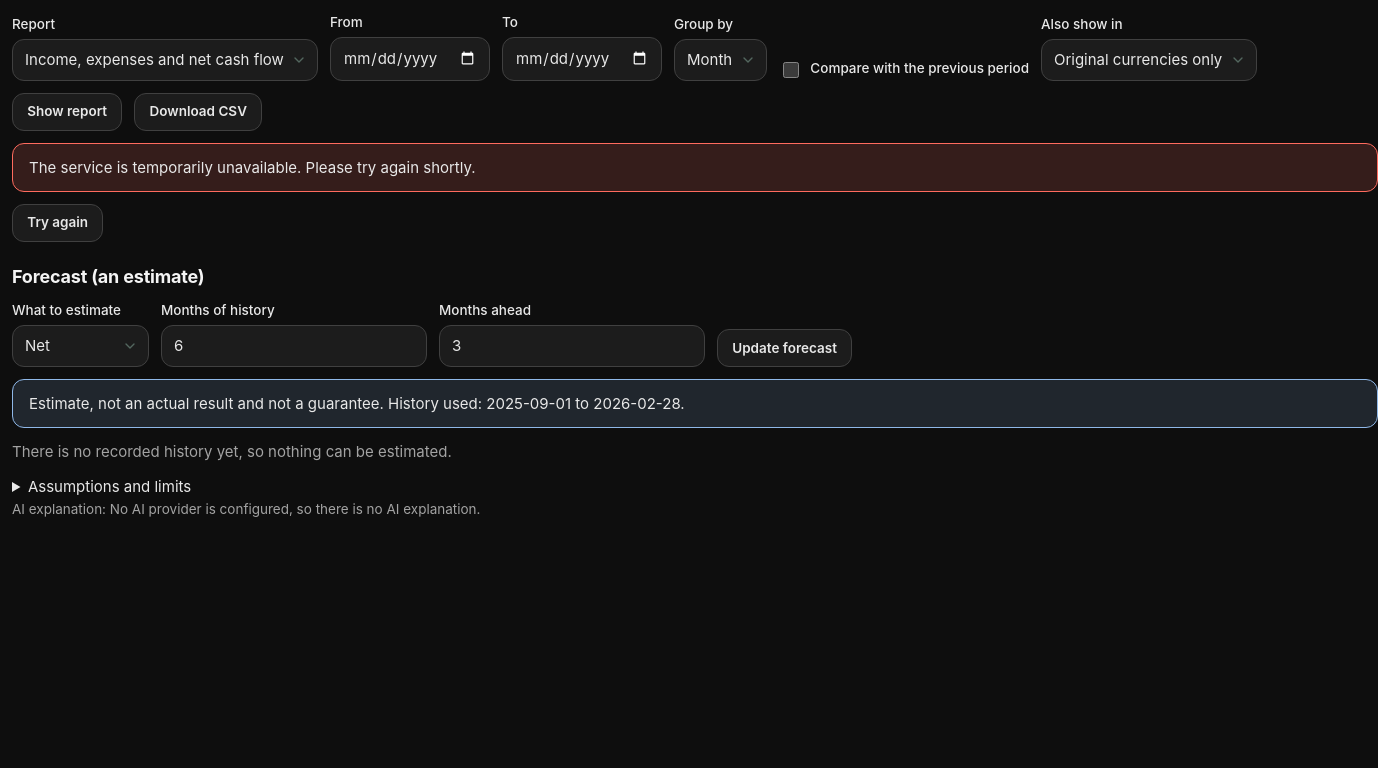
reports and forecast › shows an empty report, validates dates, and recovers from an error
Expected: the message "The service is temporarily unavailable. Please try again shortly." is shown, [12,143,1377,192]
Click the button "Try again".
click(58, 223)  # box [12,204,103,242]
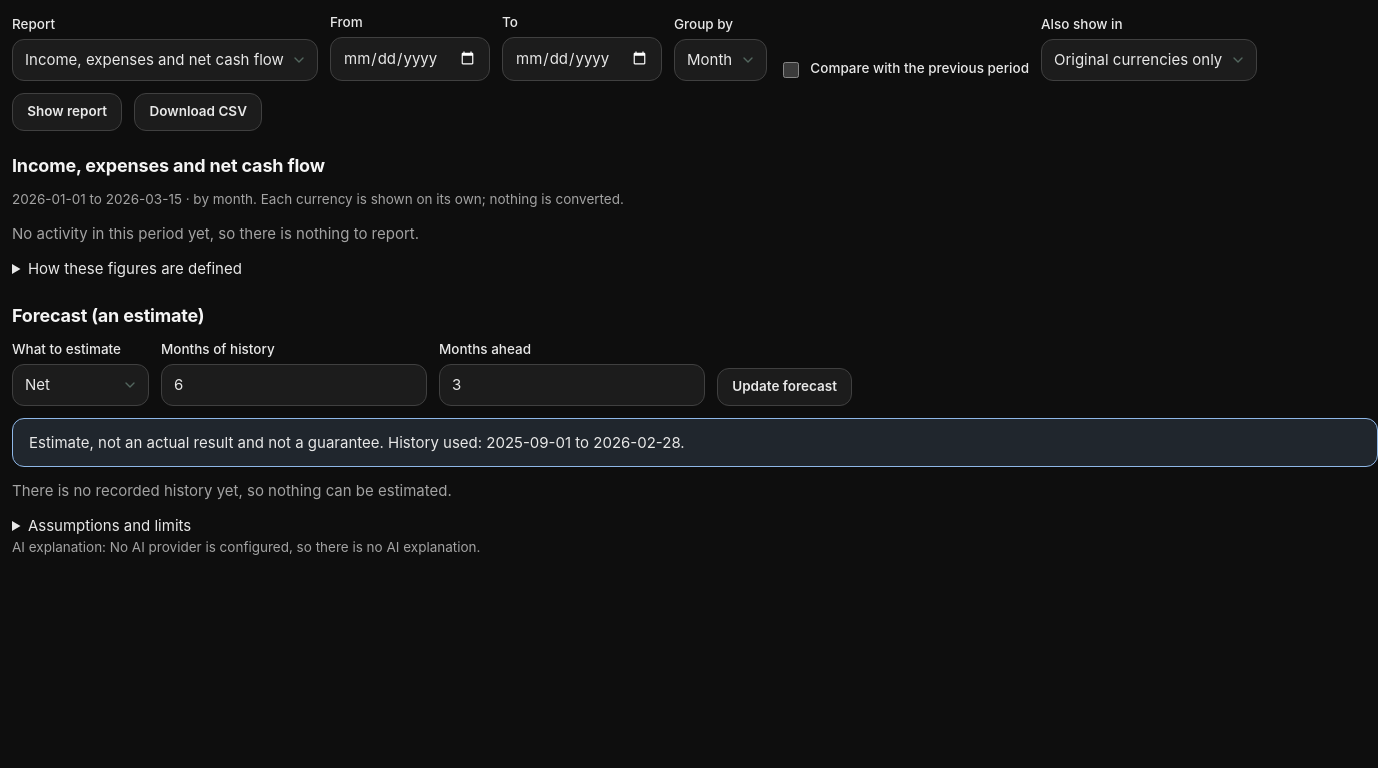
Now the text "No activity in this period yet" is shown, box [12,224,419,243]
Type "2026-03-10" into the date field labelled "From".
click(410, 59); type("2026-03-10")  # box [330,37,490,81]
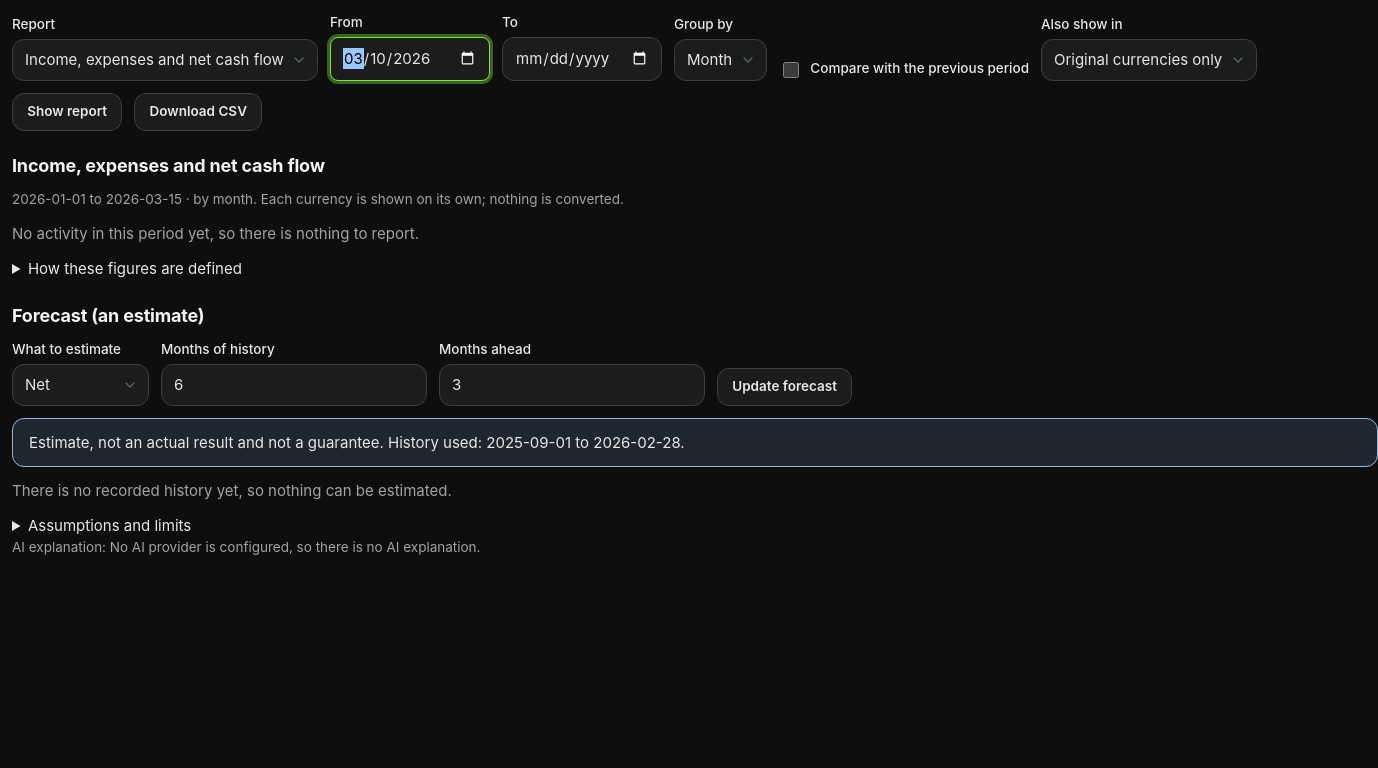
Type "2026-03-01" into the date field labelled "To".
click(582, 59); type("2026-03-01")  # box [502,37,662,81]
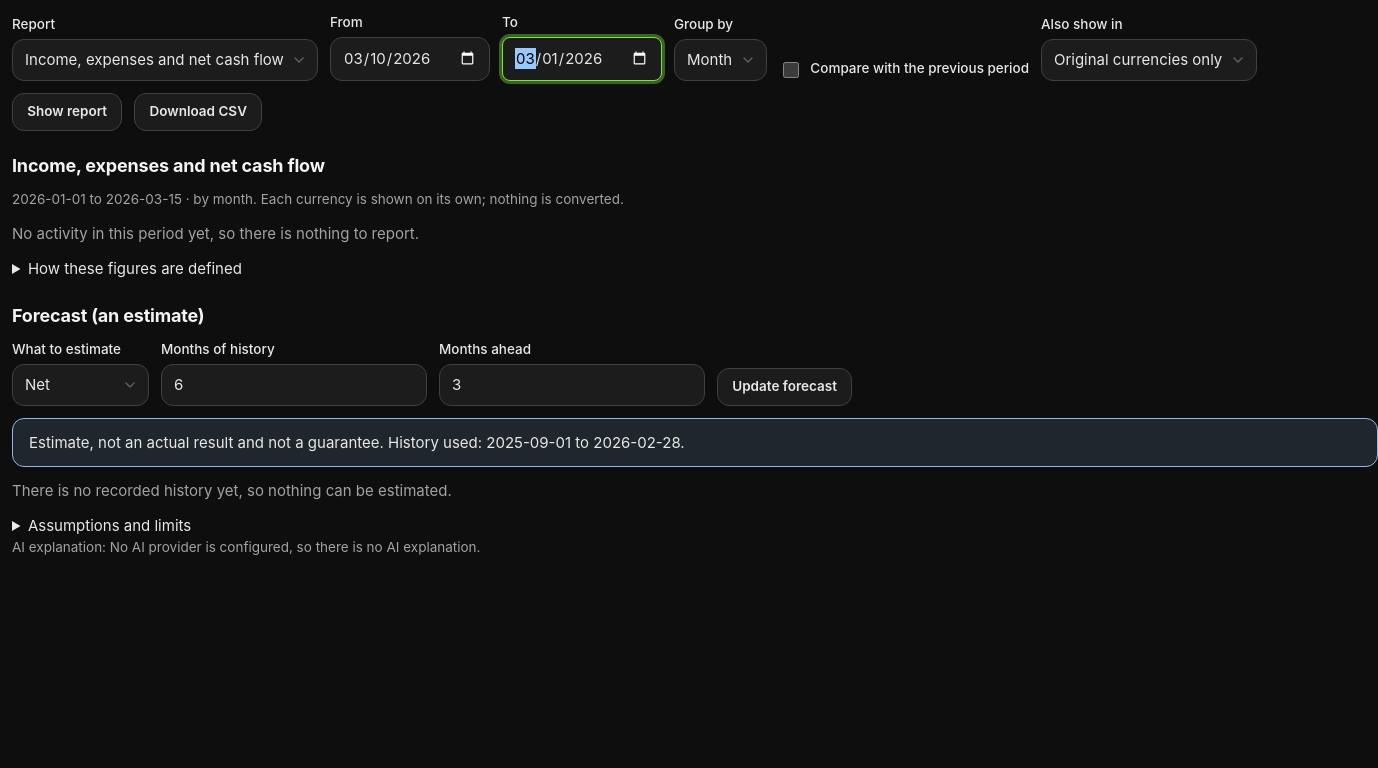
Click the button "Show report".
click(67, 112)  # box [12,93,122,131]
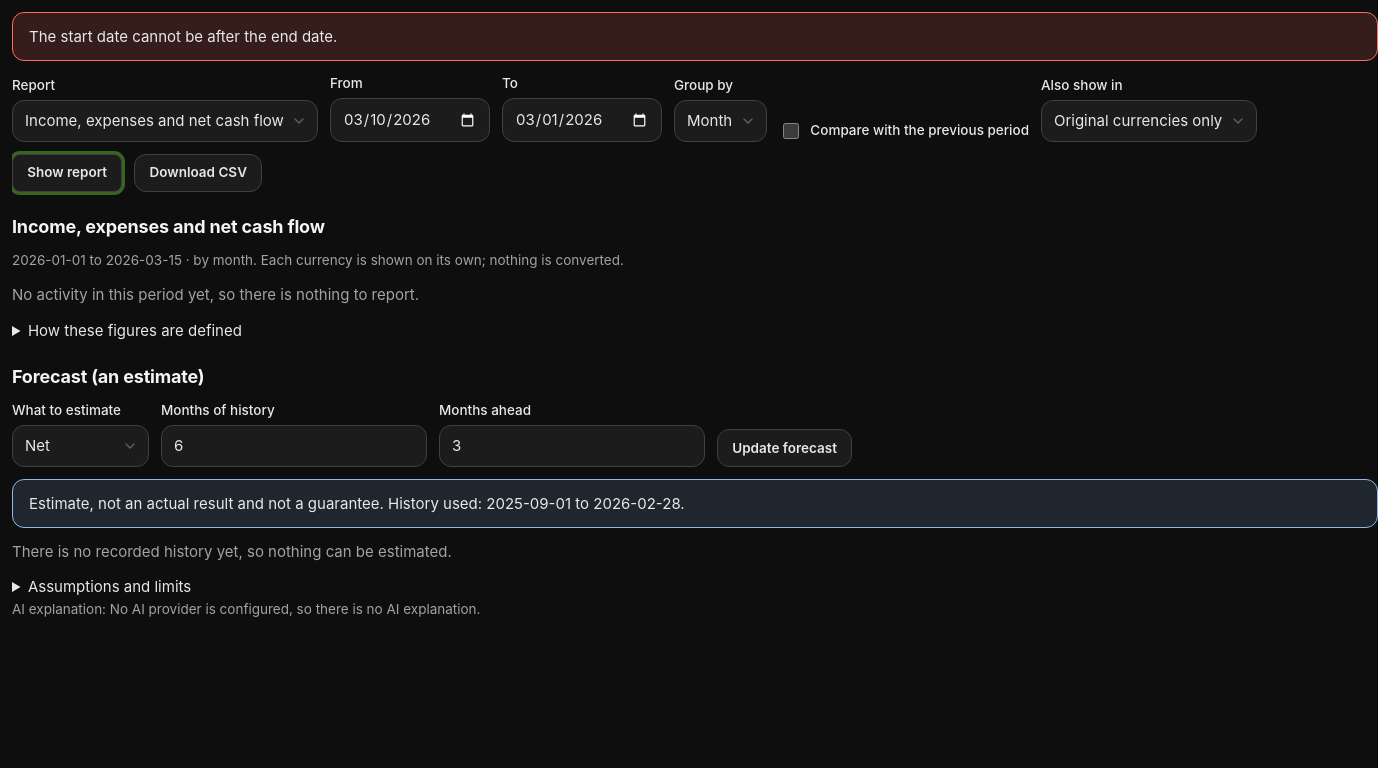
Now the text "The start date cannot be after the end date." is shown, box [12,12,1377,61]
